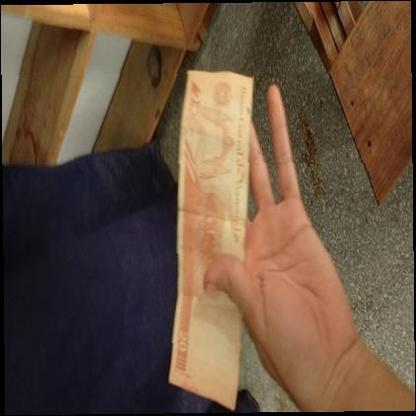twenty-back-vef: (167, 69, 253, 410)
